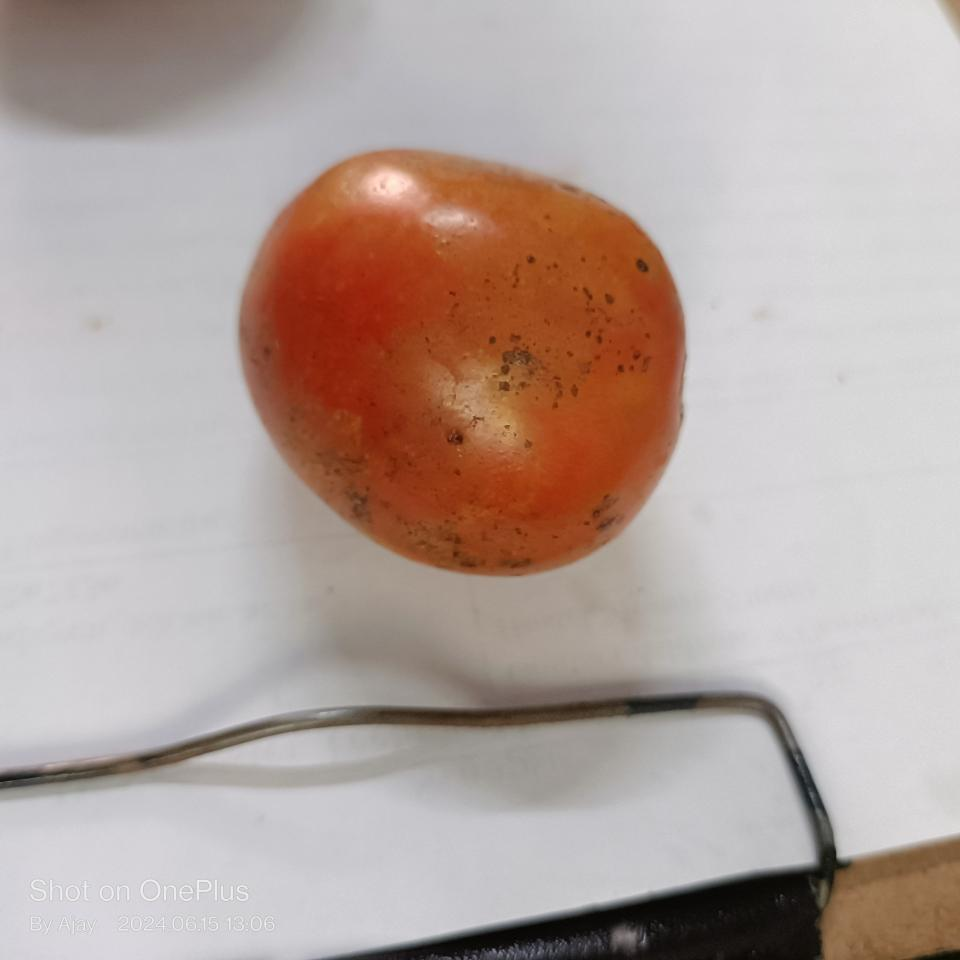Bacterial_Spot: (442, 423, 475, 455), (626, 245, 653, 282)
